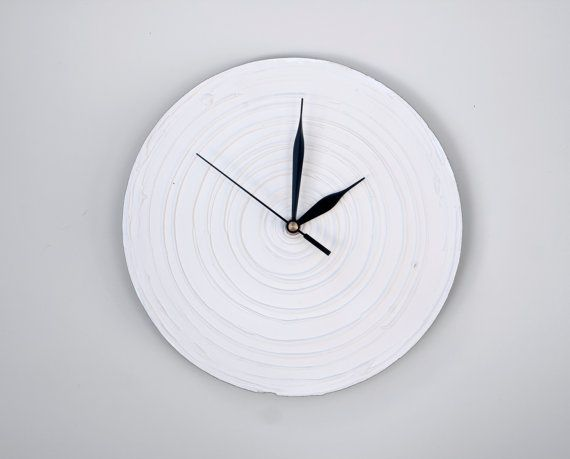clock: (123, 58, 462, 396)
